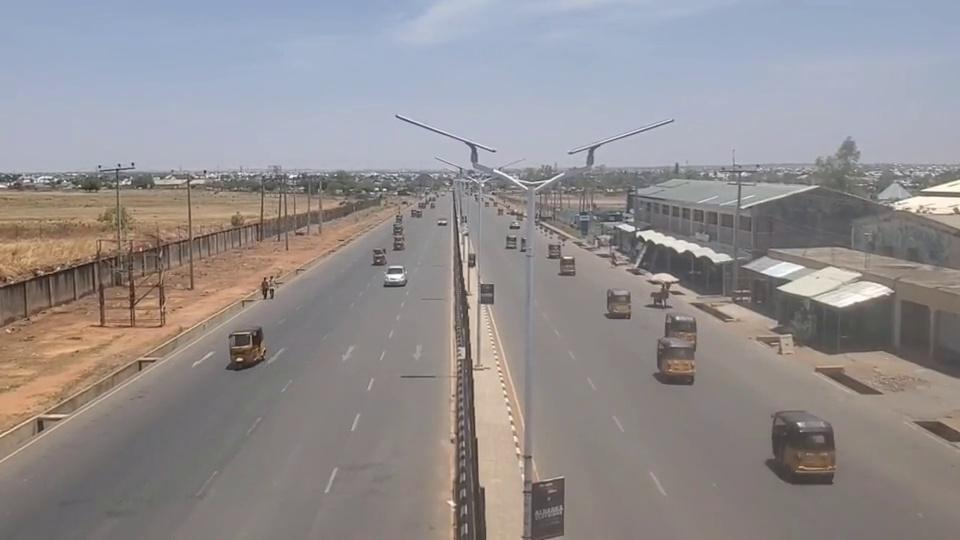keke: (607, 286, 634, 320)
